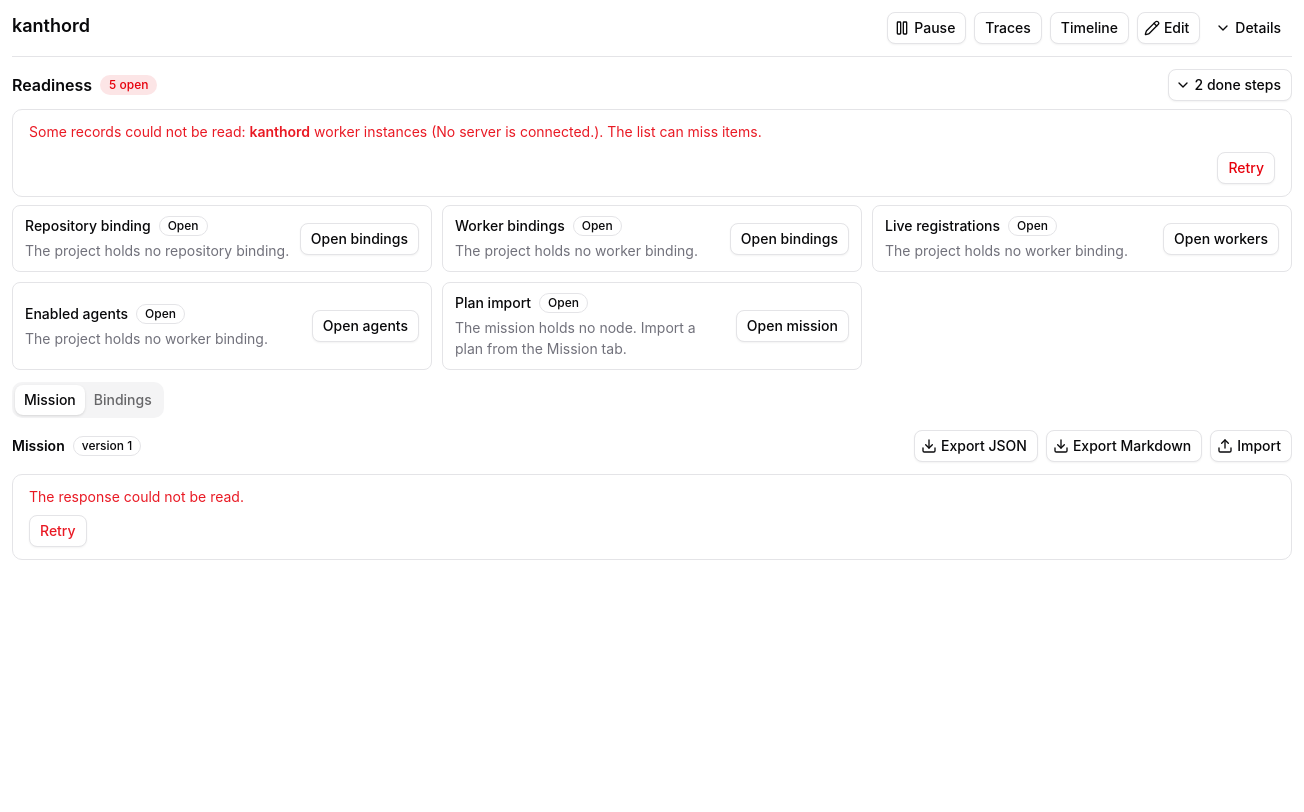
Test: ProjectScreen › shows the readiness of a new project with a link to each step
Expected: the 1st icon "Open" is shown, top-left (159, 216), bottom-right (208, 236)
Expected: the list item "Project active" is not shown
Click the button "2 done steps": [1230, 85] box top-left (1168, 69), bottom-right (1292, 101)
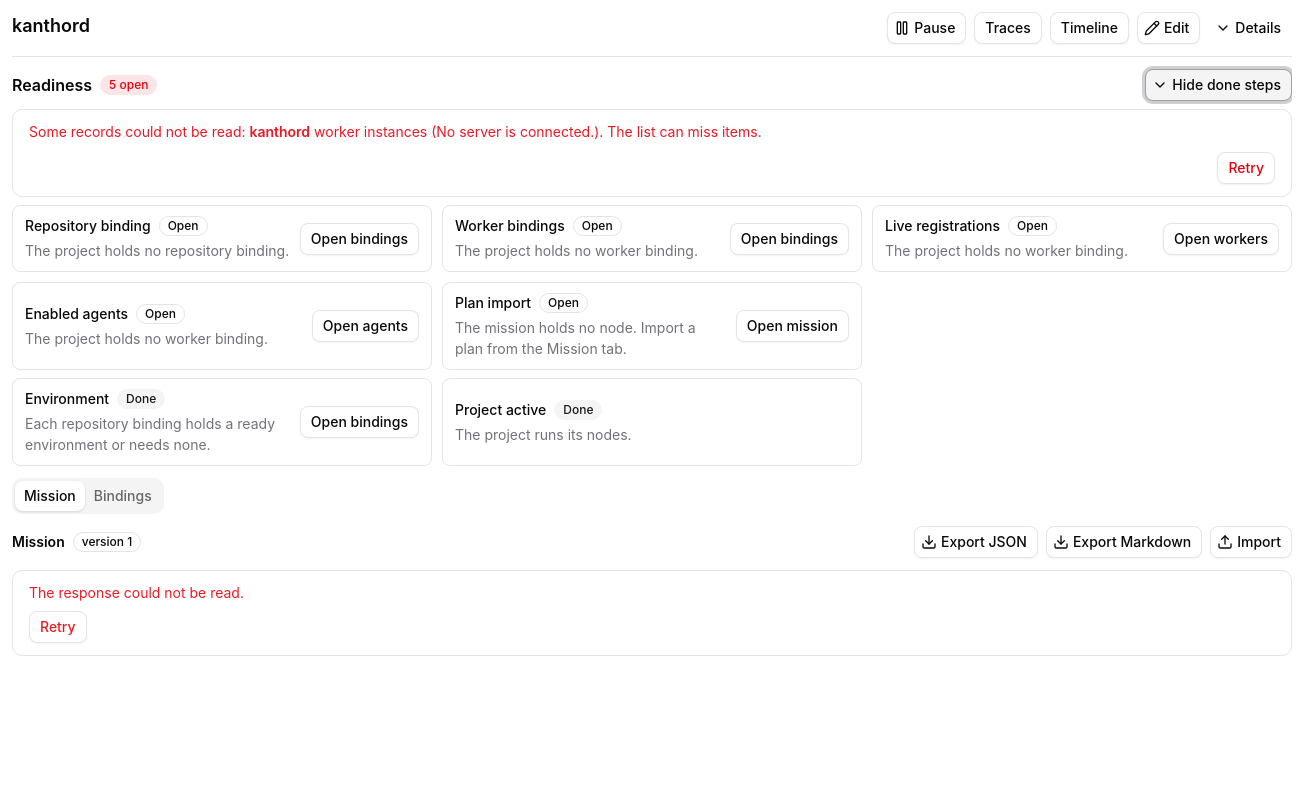
Expected: the icon "Done" next to "Project active" is shown, top-left (563, 402), bottom-right (594, 416)
Expected: the button "Hide done steps" is shown, top-left (1145, 69), bottom-right (1292, 101)
